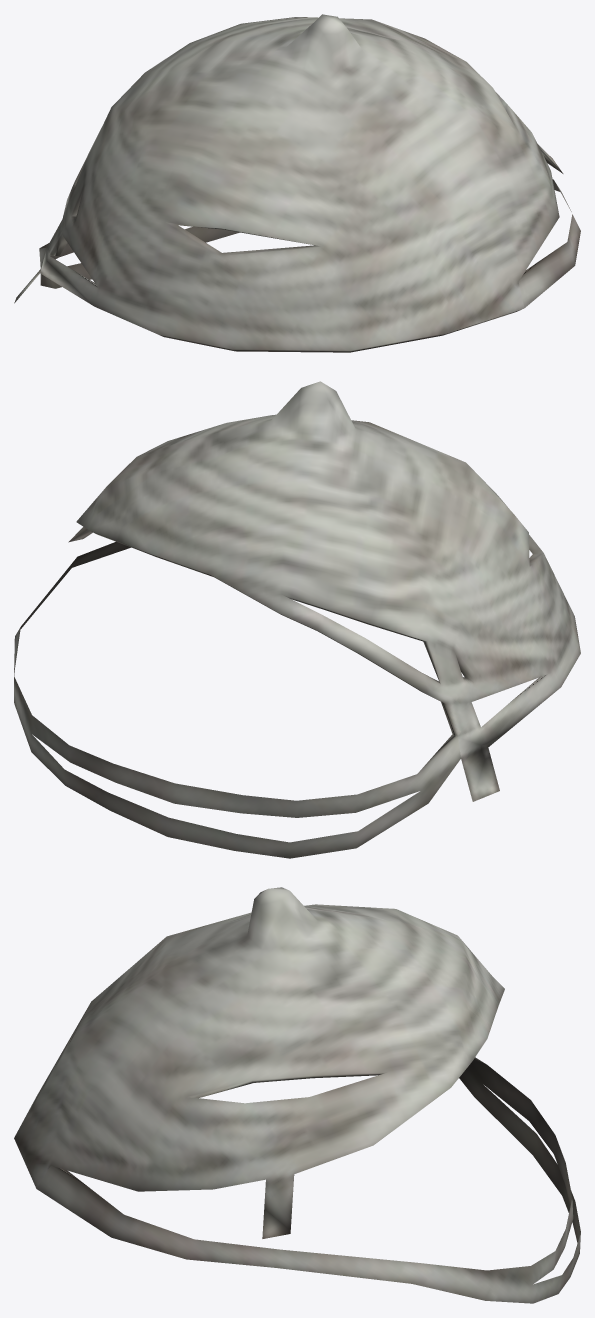
Rendered from mummyHead.glb.
3 renders of one model, top to bottom at view 1: azimuth 30°, elevation 25°; view 2: azimuth 150°, elevation 25°; view 3: azimuth 270°, elevation 25°, orthographic. The views are drawn at different scales.
Parts seen in each view (by area): view 1: mummyHead; view 2: mummyHead; view 3: mummyHead.
Part boxes in pixels (x1=…): mummyHead: x1=14, y1=14, x2=580, y2=352; mummyHead: x1=14, y1=381, x2=580, y2=858; mummyHead: x1=14, y1=887, x2=580, y2=1303.
Bounding box in the file's own units: 1.73 × 1.15 × 1.63.
Materials: 1 (1 with a texture image).
